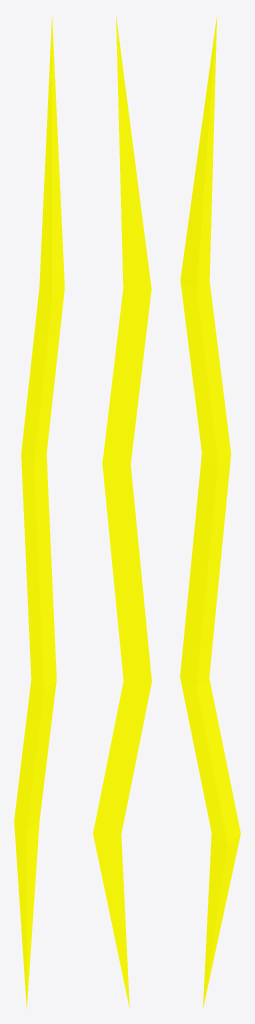
Rendered from lightning.gltf.
3 views of the same model, side by side, from view 1: azimuth 90°, elevation 25°; view 2: azimuth 150°, elevation 25°; view 3: azimuth 330°, elevation 25° (orthographic). The views are drawn at different scales.
Parts seen in each view (by area): view 1: lightning; view 2: lightning; view 3: lightning.
Part boxes in pixels (x1,y1,x2,y2): lightning: [14, 15, 64, 1009]; lightning: [93, 15, 151, 1007]; lightning: [180, 14, 240, 1008].
Bounding box in the file's own units: 0.1455 × 3.1 × 0.1449.
